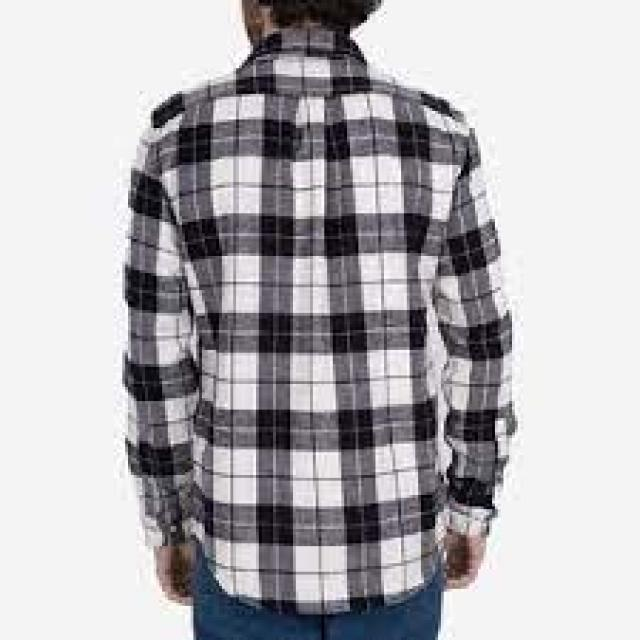plaid: (123, 27, 521, 599)
